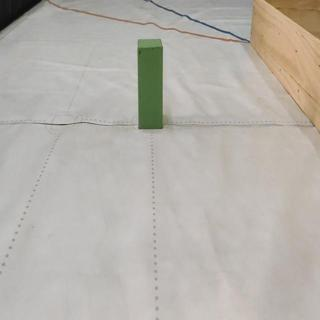greenbox: (137, 37, 165, 130)
